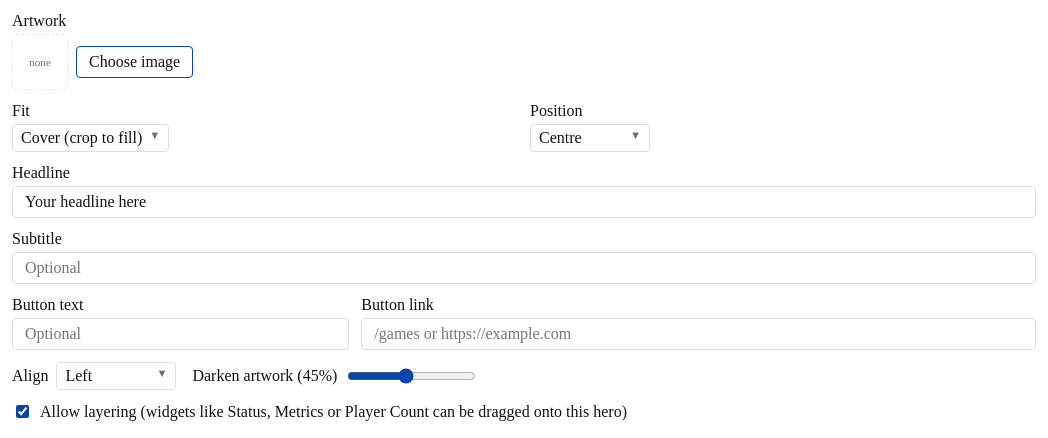
Test: HeroWidgetConfigForm › offers the same three fit modes a Picture does
Click the button with aria-label "Fit" at (91, 138), box left=12, top=124, right=169, bottom=152
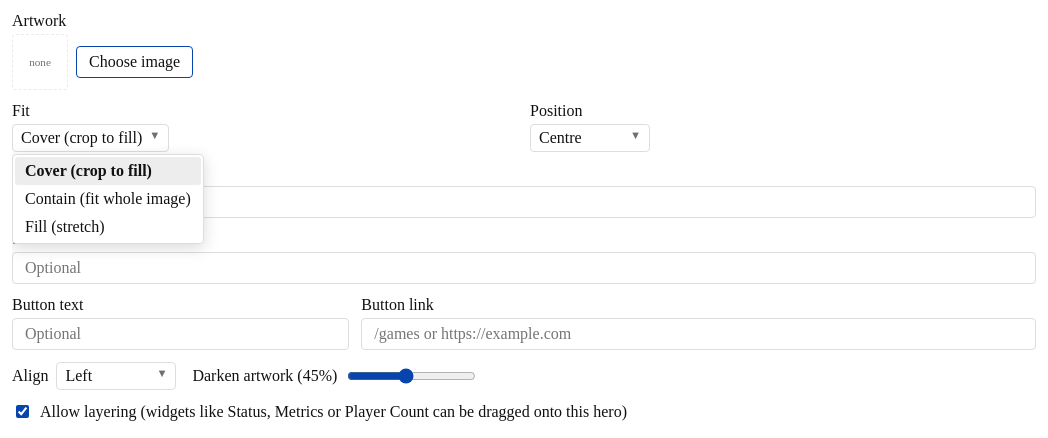
Result: the options read "Cover (crop to fill)", "Contain (fit whole image)", "Fill (stretch)", in this order at left=15, top=157, right=201, bottom=185; left=15, top=185, right=201, bottom=213; left=25, top=218, right=104, bottom=235
